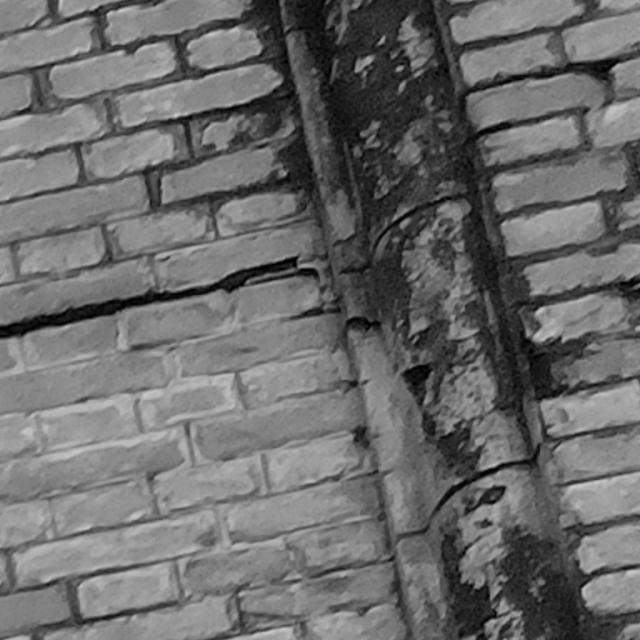crack: (1, 254, 300, 339)
